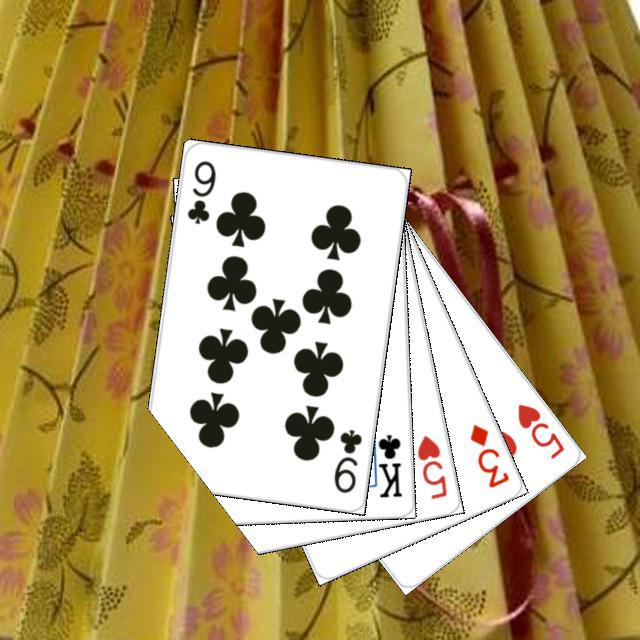3d: (464, 419, 511, 490)
5h: (512, 398, 566, 461), (412, 430, 449, 501)
9c: (182, 155, 218, 225), (329, 424, 364, 495)
Kc: (366, 423, 404, 500)
